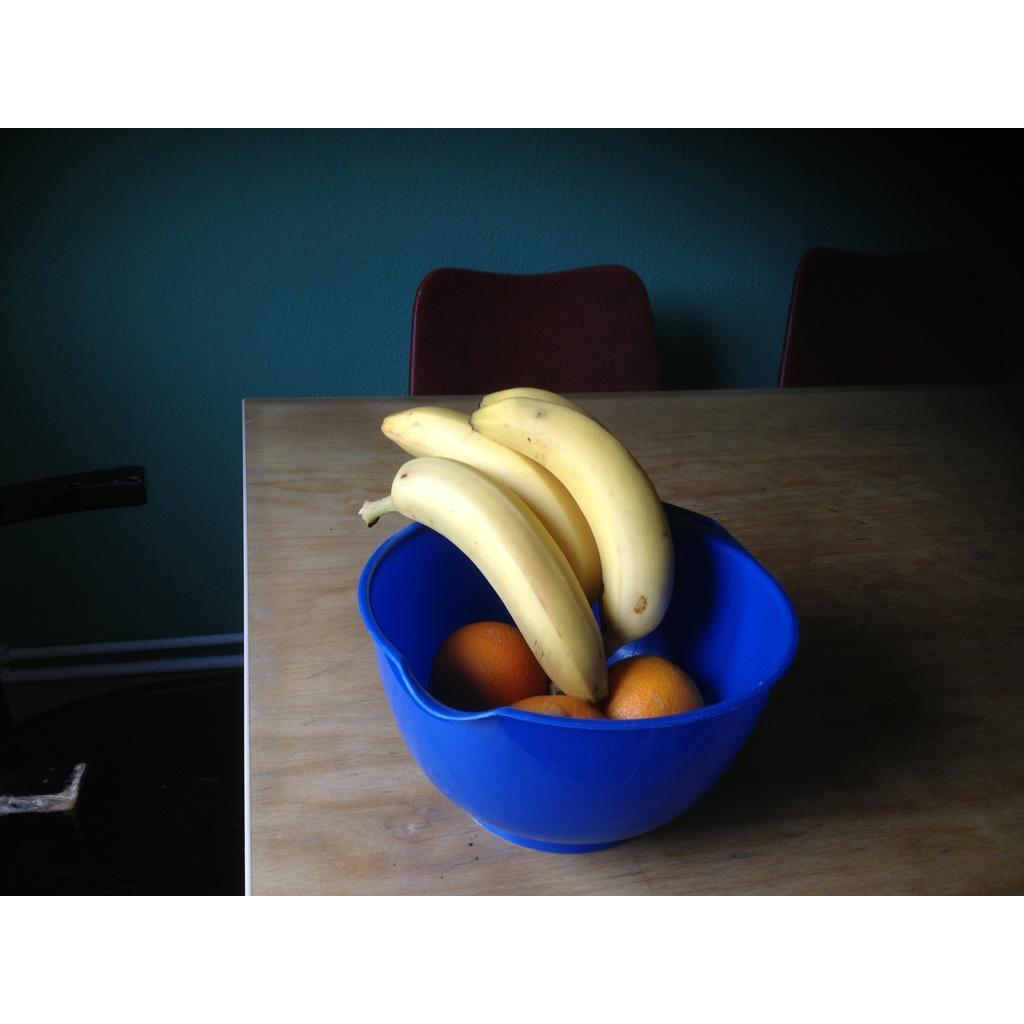banana: (378, 457, 611, 706), (469, 388, 674, 655)
